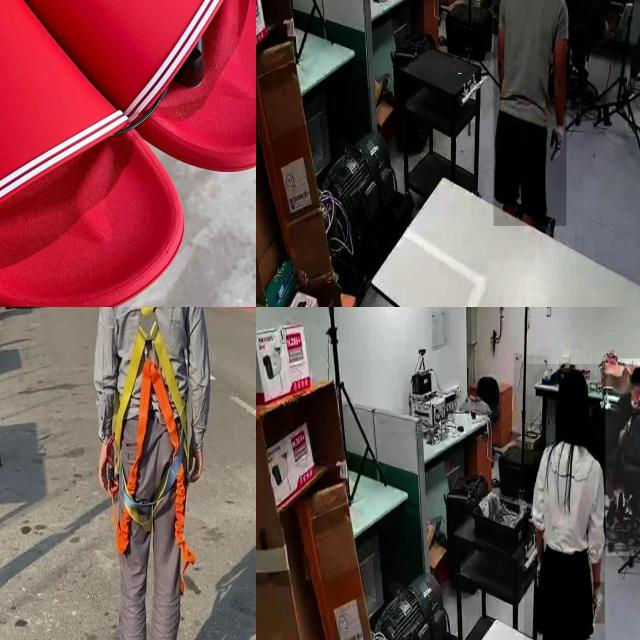Harness: (112, 307, 196, 574)
Sandals: (0, 0, 256, 307)
face_nomask: (631, 386, 640, 404)
hand_glove: (590, 582, 605, 624)
head_nohelmet: (558, 369, 587, 396), (629, 364, 640, 383)
person: (524, 363, 606, 640), (493, 0, 566, 226), (605, 358, 640, 556)
